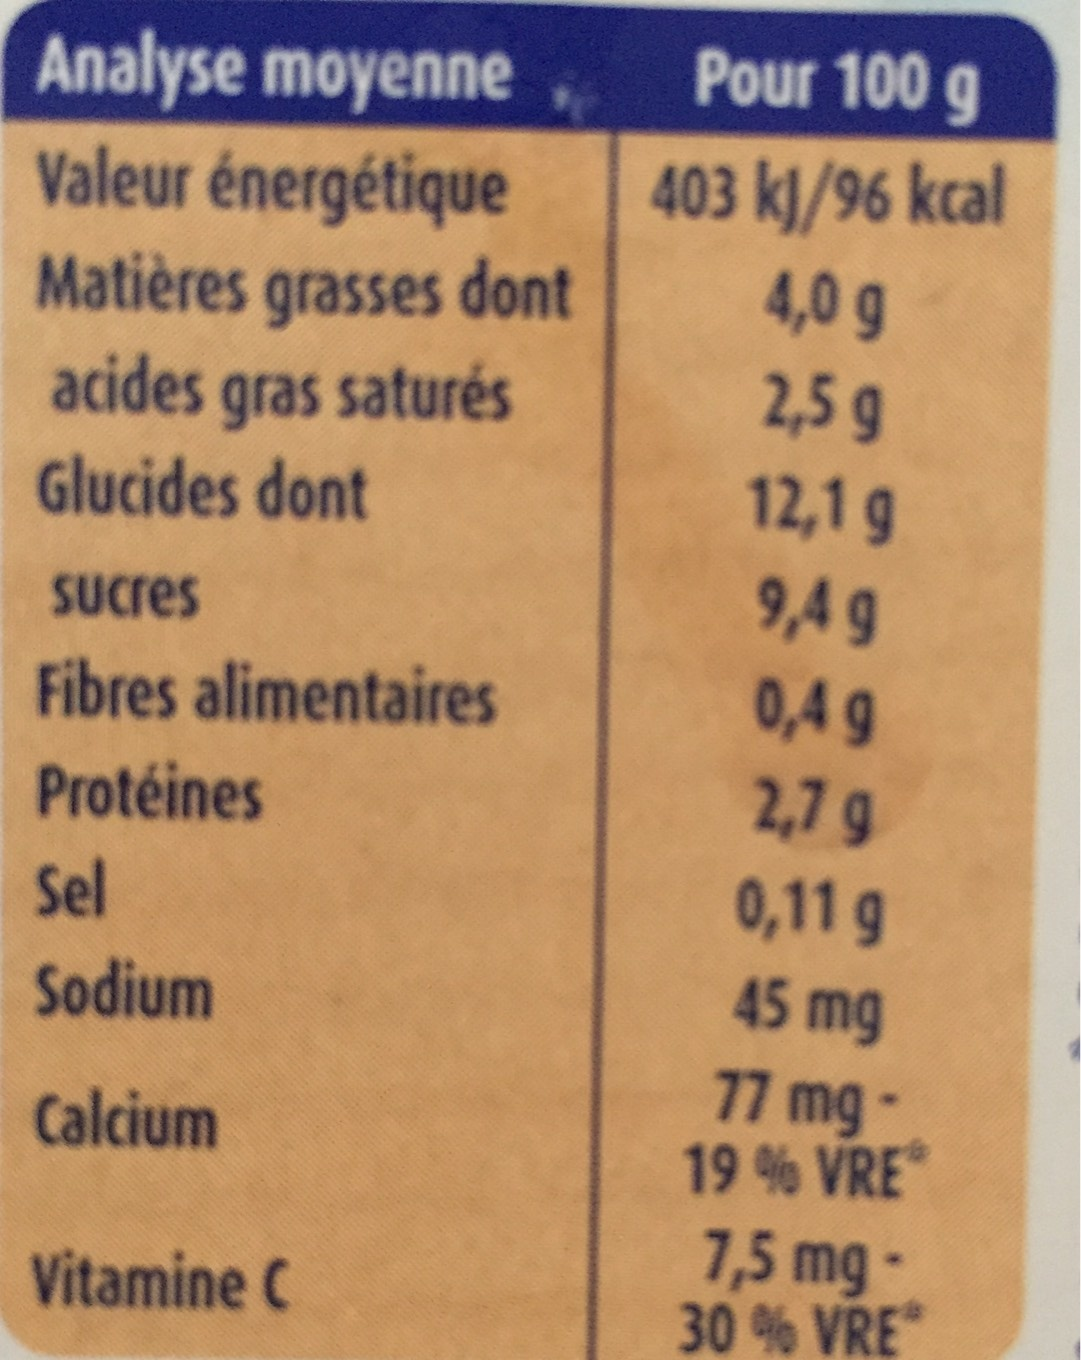column: (23, 139, 581, 1326), (648, 145, 1009, 1360)
table: (8, 4, 1058, 1360)
